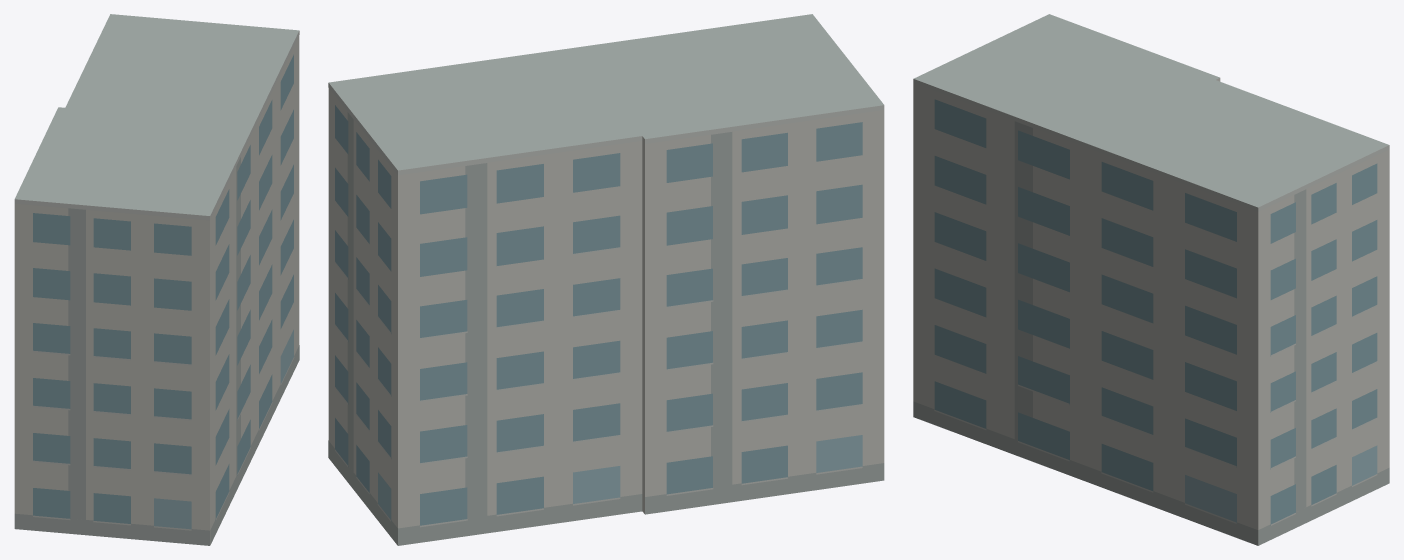
The model's file is survey-upis-32930384.glb.
3 renders of one model, left to right at view 1: azimuth 30°, elevation 25°; view 2: azimuth 150°, elevation 25°; view 3: azimuth 270°, elevation 25°, orthographic. The views are drawn at different scales.
Visible parts, largest first — view 1: survey-upis-32930384.tmp; view 2: survey-upis-32930384.tmp; view 3: survey-upis-32930384.tmp.
Part boxes in pixels (x1=…): survey-upis-32930384.tmp: x1=14, y1=14, x2=299, y2=545; survey-upis-32930384.tmp: x1=328, y1=14, x2=884, y2=545; survey-upis-32930384.tmp: x1=913, y1=14, x2=1389, y2=545.
Size of the model in its own units: 22.46 by 18.3 by 23.35.
